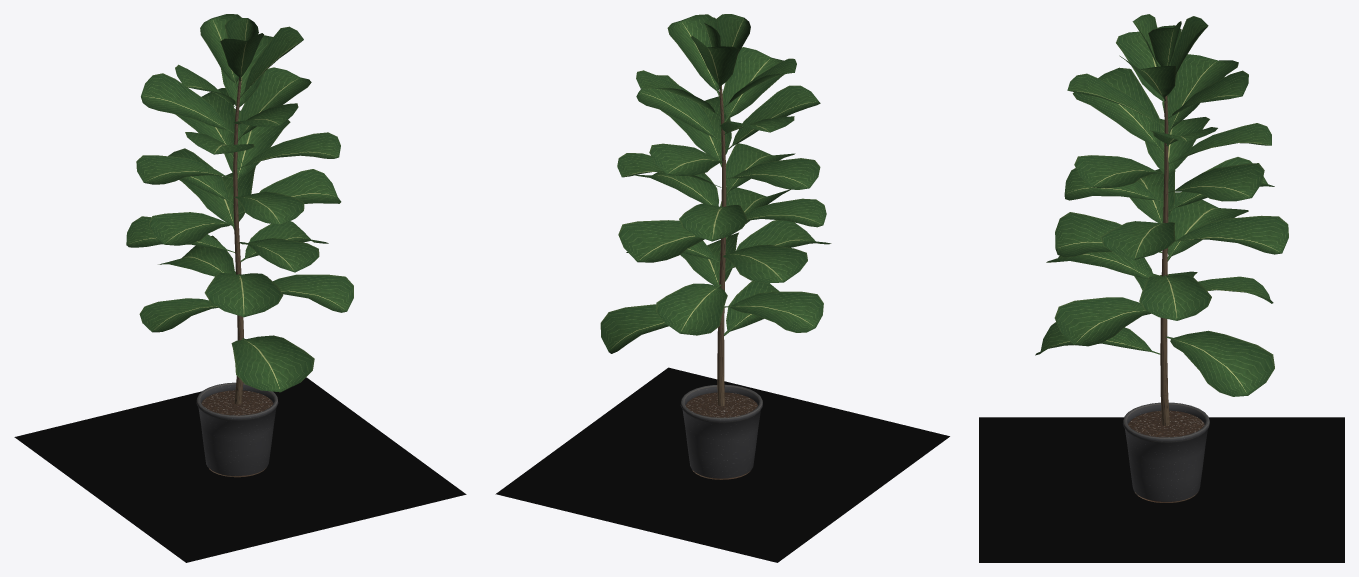
The model's file is fiddle_fig.glb.
The picture shows the model from 3 angles, left to right: view 1: azimuth 30°, elevation 25°; view 2: azimuth 150°, elevation 25°; view 3: azimuth 270°, elevation 25°; orthographic projection. The views are drawn at different scales.
Visible parts, largest first — view 1: fiddle_fig_LOD0, fiddle_fig_Shadow; view 2: fiddle_fig_LOD0, fiddle_fig_Shadow; view 3: fiddle_fig_LOD0, fiddle_fig_Shadow.
Boxes of the visible parts, left/top/right/bottom form: fiddle_fig_LOD0: left=126, top=14, right=353, bottom=477; fiddle_fig_Shadow: left=14, top=377, right=466, bottom=562; fiddle_fig_LOD0: left=600, top=14, right=831, bottom=479; fiddle_fig_Shadow: left=495, top=367, right=949, bottom=562; fiddle_fig_LOD0: left=1035, top=14, right=1288, bottom=502; fiddle_fig_Shadow: left=979, top=417, right=1344, bottom=562.
Size of what is drawn, in the model's own units: 1.17 by 1.75 by 1.24.
Materials: 3 (3 with a texture image).
